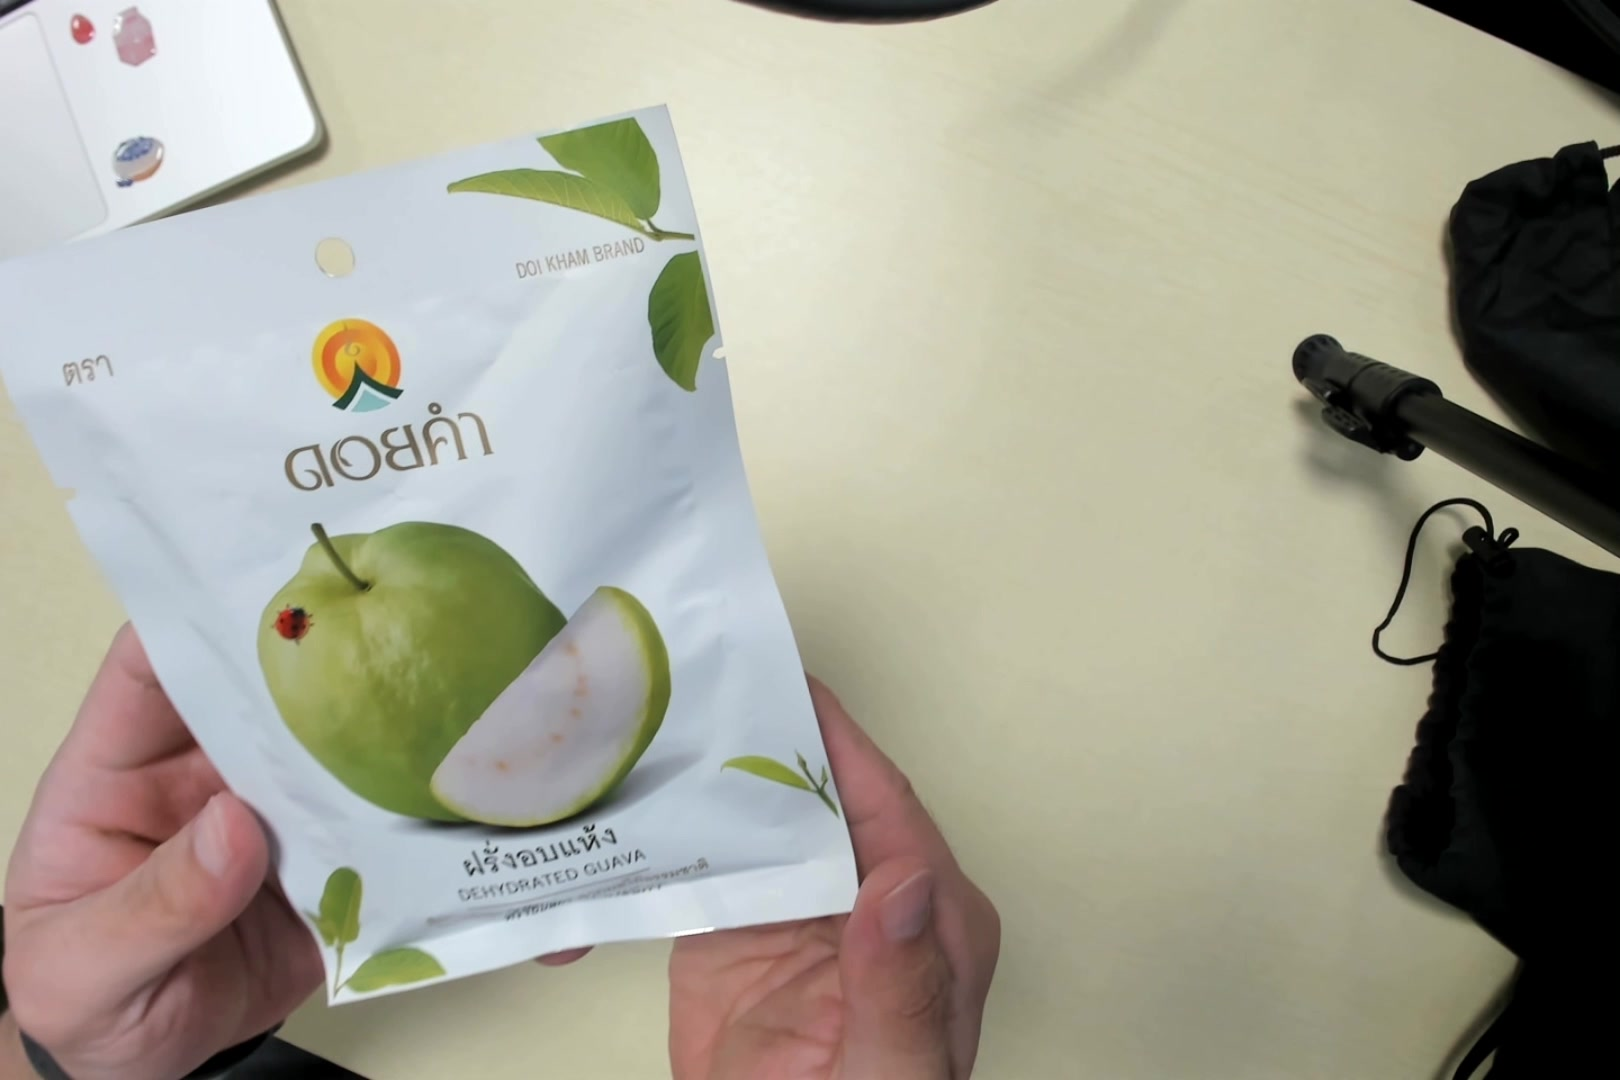DriedFruits_0-99g_Halal_NonHealthy: (10, 142, 849, 969)
